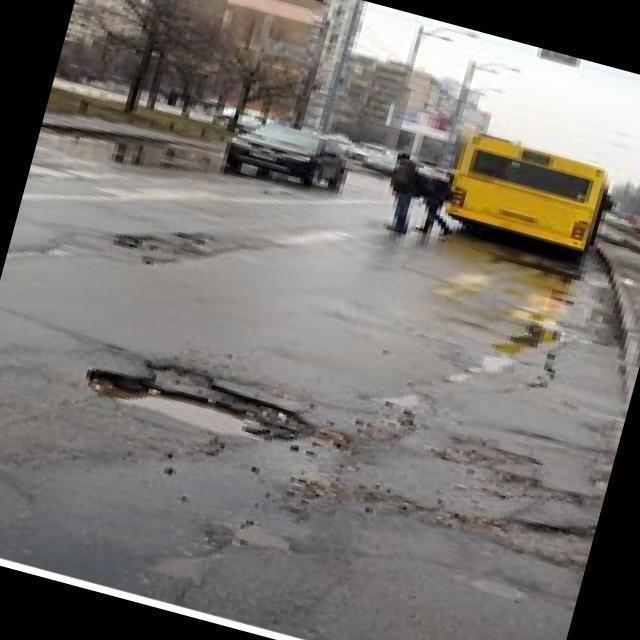pothole: (79, 341, 323, 461), (107, 225, 211, 279), (172, 224, 215, 251)
